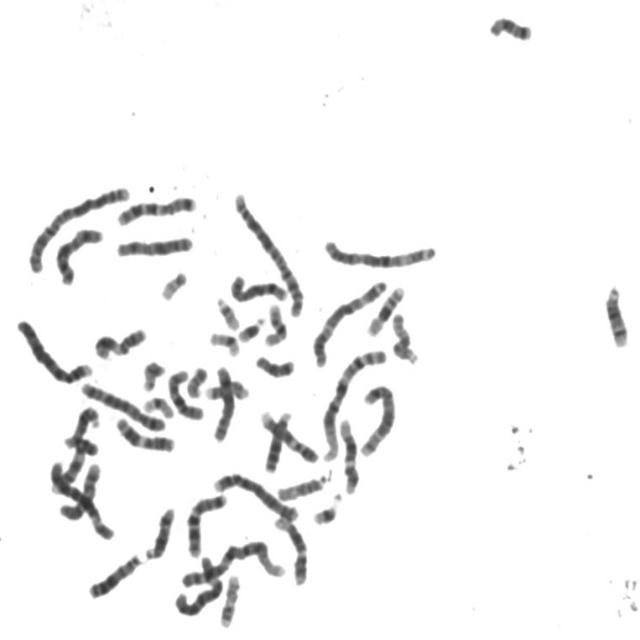A1: (316, 342, 390, 465), (176, 534, 288, 590)
A2: (23, 179, 133, 275), (229, 186, 308, 319)
A3: (308, 272, 392, 368), (319, 232, 440, 270)
B4: (11, 312, 96, 386), (209, 465, 302, 524)
B5: (76, 376, 169, 432), (356, 378, 399, 458)
C10: (55, 457, 104, 522), (164, 362, 207, 422)
C11: (112, 409, 178, 454), (91, 322, 150, 361)
C12: (271, 509, 311, 587), (336, 413, 362, 494)
C6: (44, 454, 118, 543), (172, 550, 226, 618)
C7: (183, 486, 231, 558), (112, 189, 200, 227)
C8: (226, 267, 291, 304), (210, 359, 237, 443)
C9: (256, 404, 321, 464), (50, 440, 103, 496)
D13: (84, 546, 145, 600), (261, 406, 296, 474)
D14: (600, 276, 633, 350), (141, 500, 179, 561)
D15: (274, 467, 332, 503), (60, 406, 104, 452)
E16: (362, 278, 410, 338), (261, 297, 291, 348)
E17: (216, 569, 244, 629), (202, 374, 252, 402)
E18: (485, 8, 536, 42), (252, 348, 298, 379)
F19: (206, 326, 243, 358), (139, 390, 177, 420)
F20: (138, 354, 168, 393), (183, 360, 210, 398)
G21: (310, 489, 344, 527), (234, 310, 268, 344)
G22: (156, 264, 190, 302), (212, 290, 242, 330)
X: (52, 221, 106, 287), (112, 229, 196, 259)
